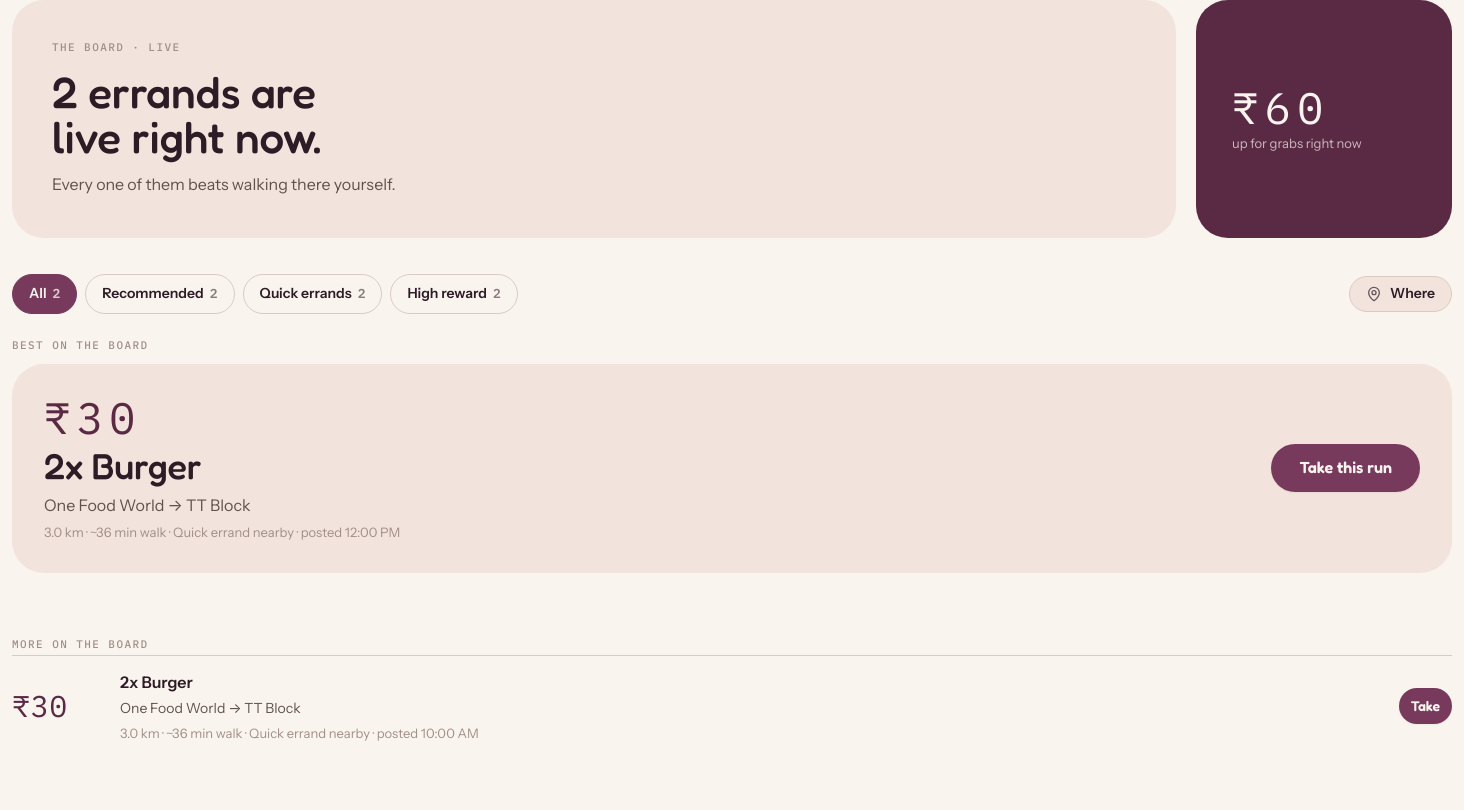
it: Home — 3F Recommended › shows "Friend involved" only for a friend-authored order, as a tie-break nudge
Click the button "Recommended2". click: (160, 294)
box: [85,274,235,314]
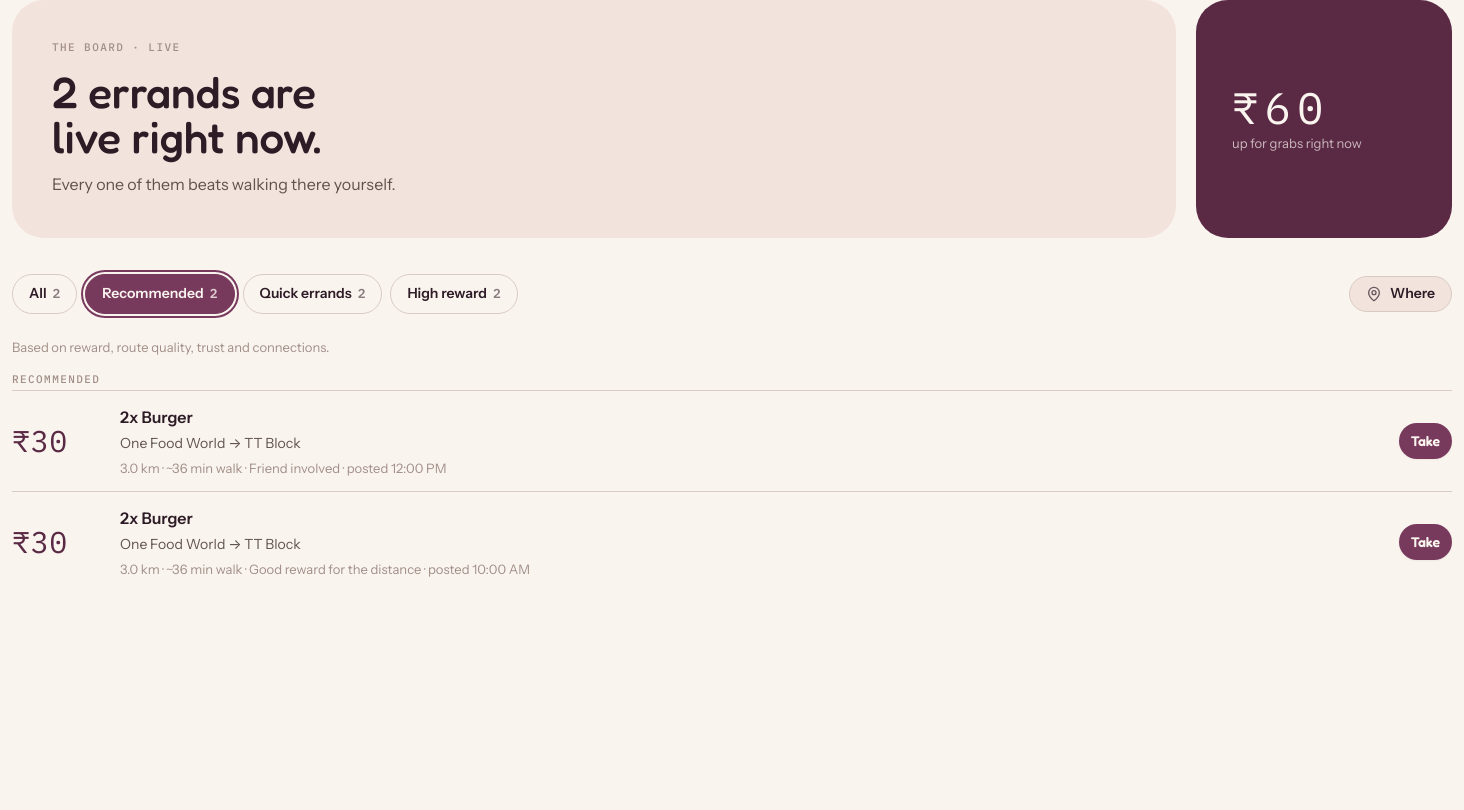
Expected: the text "3.0 km · ~36 min walk · Friend involved · posted 12:00 PM" is shown, [120,460,446,476]
